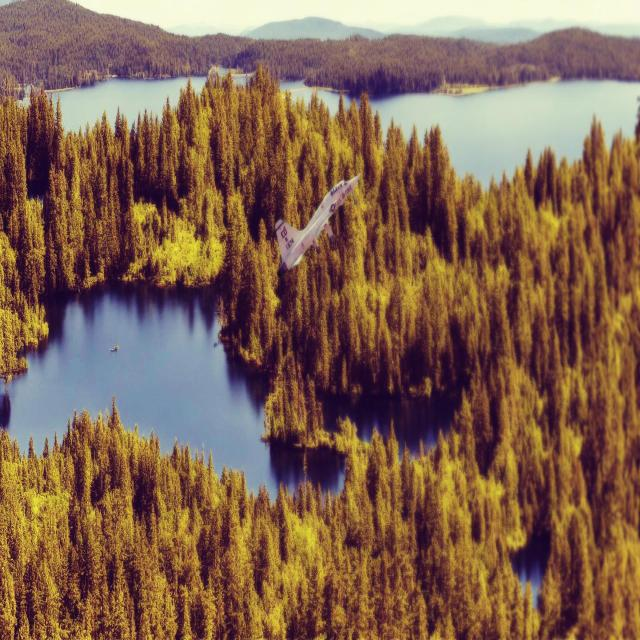airplane: (274, 172, 361, 277)
